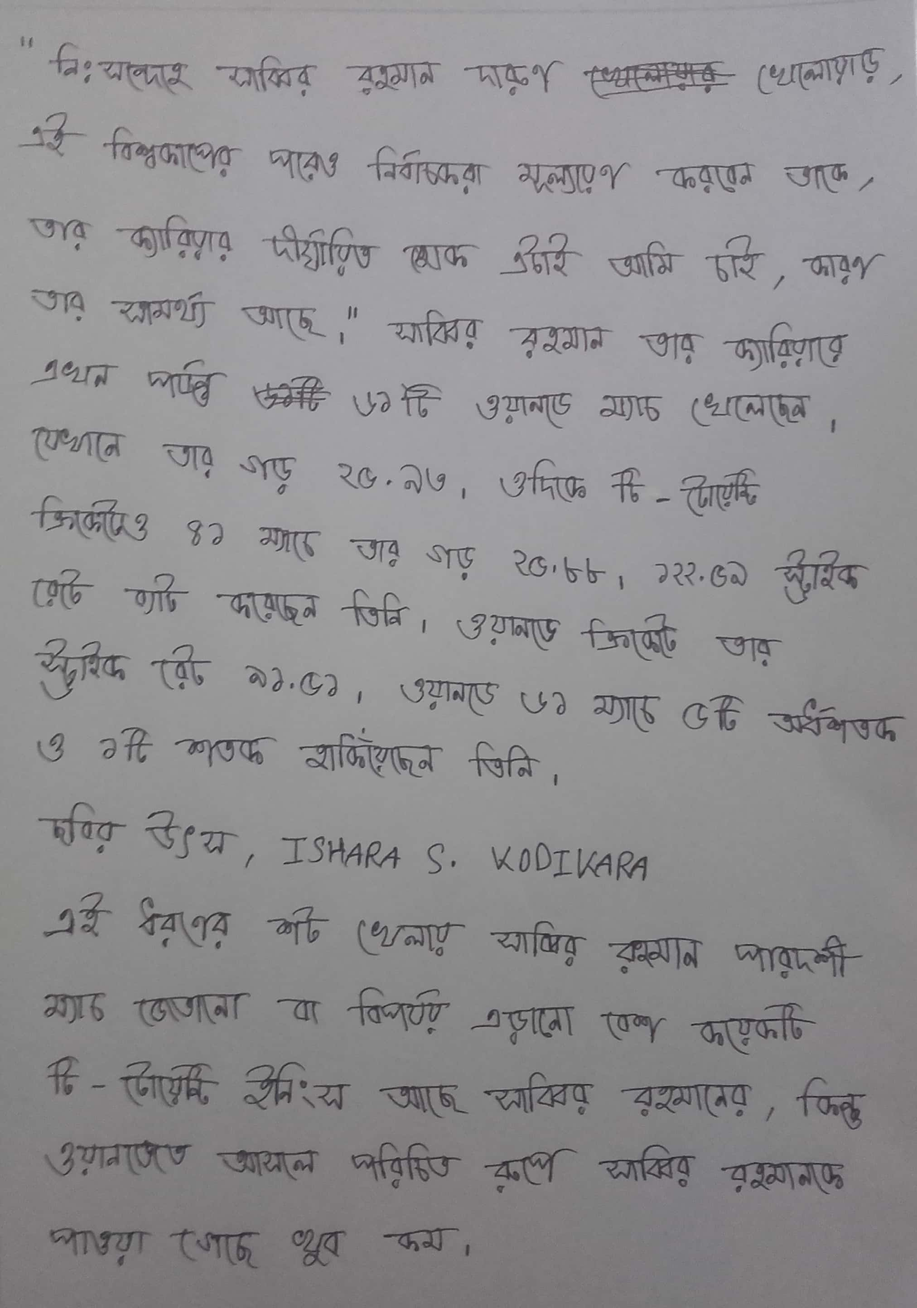line: (32, 634, 906, 748), (27, 495, 875, 609), (37, 890, 865, 984), (16, 110, 877, 200), (30, 568, 783, 667), (27, 288, 849, 374), (32, 423, 763, 516), (28, 212, 888, 291), (42, 1054, 869, 1132), (29, 357, 840, 433), (16, 34, 904, 101), (37, 983, 817, 1055), (33, 802, 650, 884), (39, 1138, 852, 1197), (34, 725, 565, 788), (44, 1221, 477, 1272)
